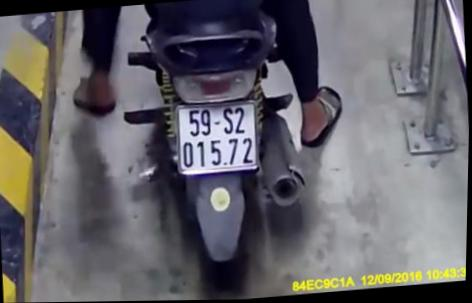LP: (175, 99, 260, 177)
